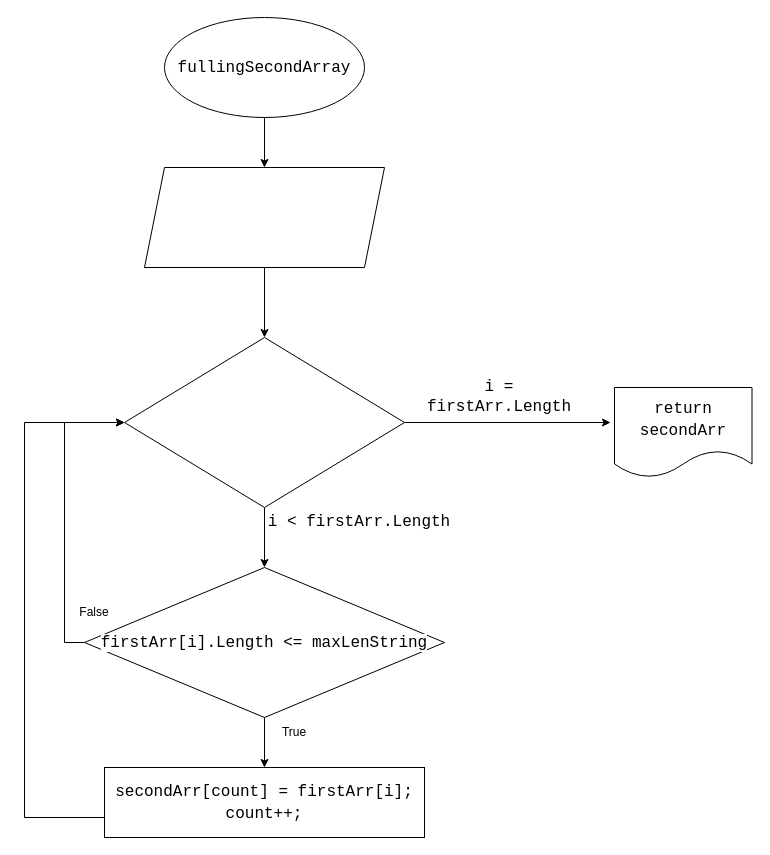
Image size: 770x855. Some labels were removed from this diagram. The shapes that lost their labels are listed below. From the top down, each one's centre as x and y in pixels, then its label:
At point (264, 217): "firstArr secondArr maxLenString = 3 count = 0".
At point (264, 422): "for (int i = 0; i < firstArr.Length; i++)".
